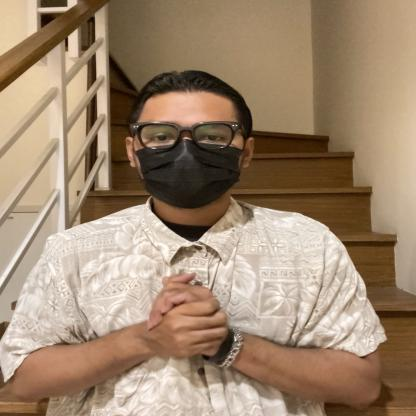Grieve: (71, 257, 287, 355)
